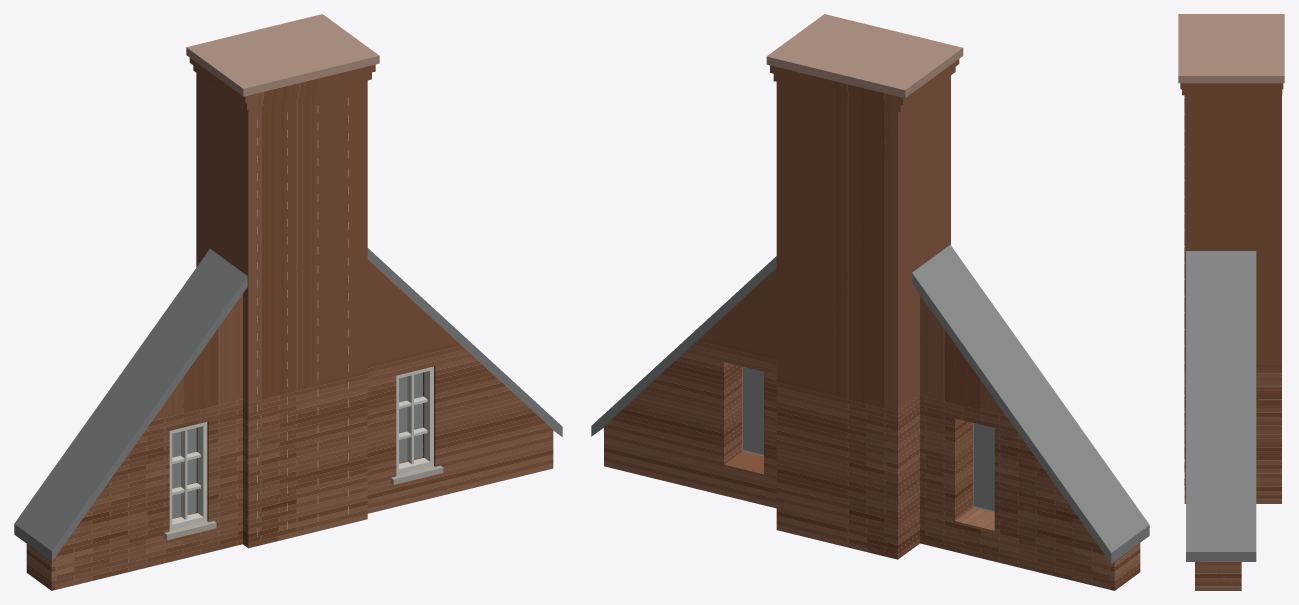
File: wulumuqi-180-gable-chimney-and-lights-far.glb
3 views of the same model, side by side, from view 1: azimuth 30°, elevation 25°; view 2: azimuth 150°, elevation 25°; view 3: azimuth 270°, elevation 25° (orthographic). The views are drawn at different scales.
Parts seen in each view (by area): view 1: 乌鲁木齐南路180号住宅山墙烟囱与阁楼双窗; view 2: 乌鲁木齐南路180号住宅山墙烟囱与阁楼双窗; view 3: 乌鲁木齐南路180号住宅山墙烟囱与阁楼双窗.
Part boxes in pixels (box(x1,y1,x2,y2)): 乌鲁木齐南路180号住宅山墙烟囱与阁楼双窗: box(14, 14, 562, 590); 乌鲁木齐南路180号住宅山墙烟囱与阁楼双窗: box(591, 14, 1149, 590); 乌鲁木齐南路180号住宅山墙烟囱与阁楼双窗: box(1178, 14, 1284, 590).
Bounding box in the file's own units: 3.79 × 3.29 × 0.732.
Materials: 6 (1 with a texture image).
